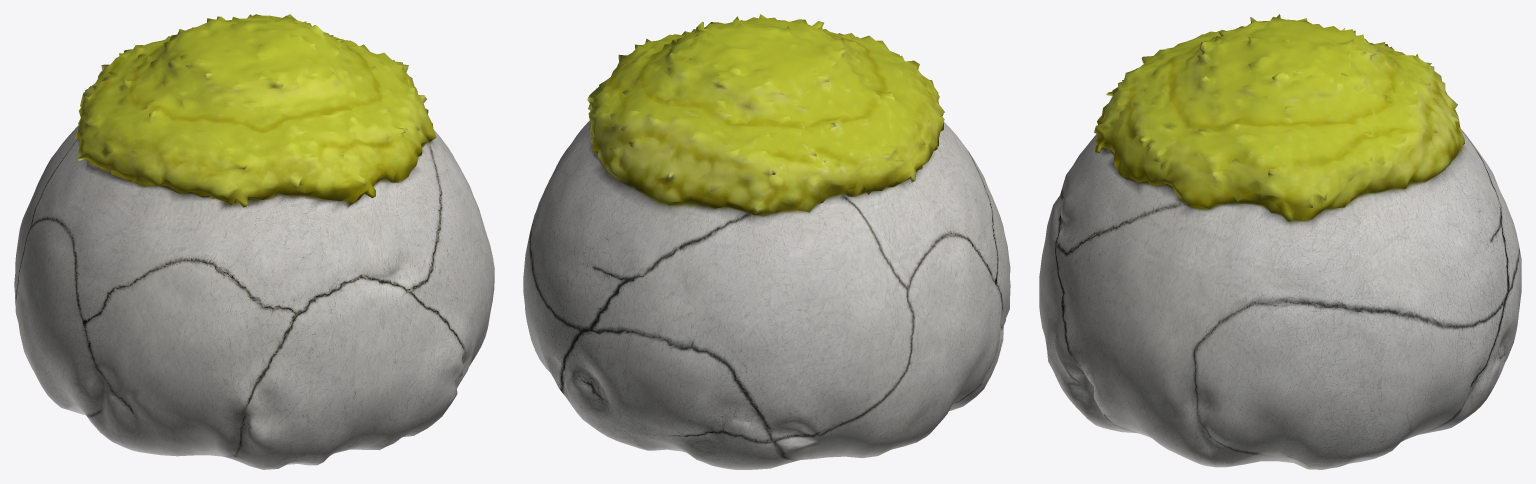
File: stone_soft.glb
3 renders of one model, left to right at view 1: azimuth 30°, elevation 25°; view 2: azimuth 150°, elevation 25°; view 3: azimuth 270°, elevation 25°, orthographic.
Size of the model in its own units: 1.9 by 1.63 by 1.9.
1 material, 1 textured.
